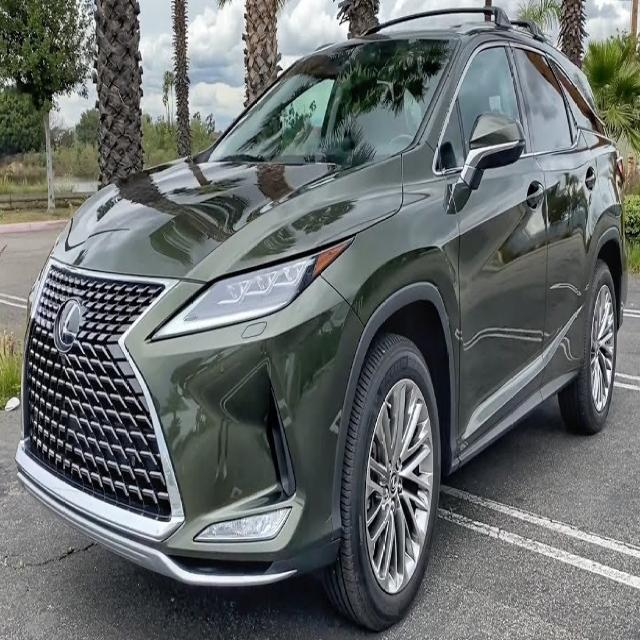green: (18, 13, 626, 631)
